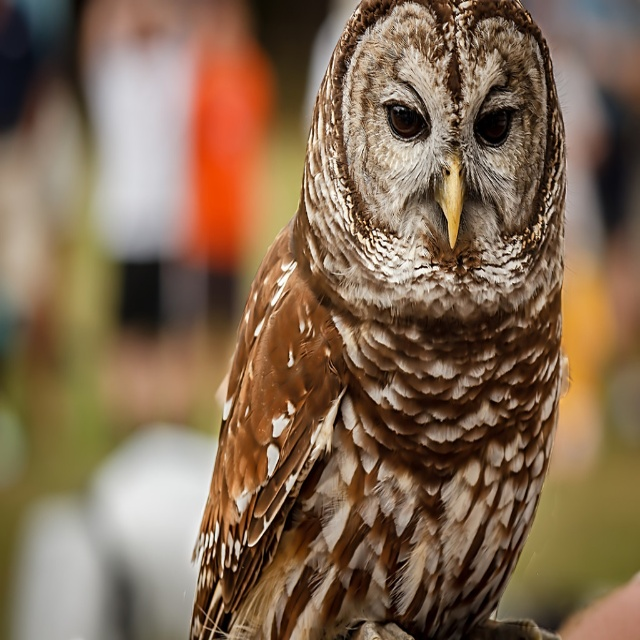Owl: (189, 0, 578, 640)
